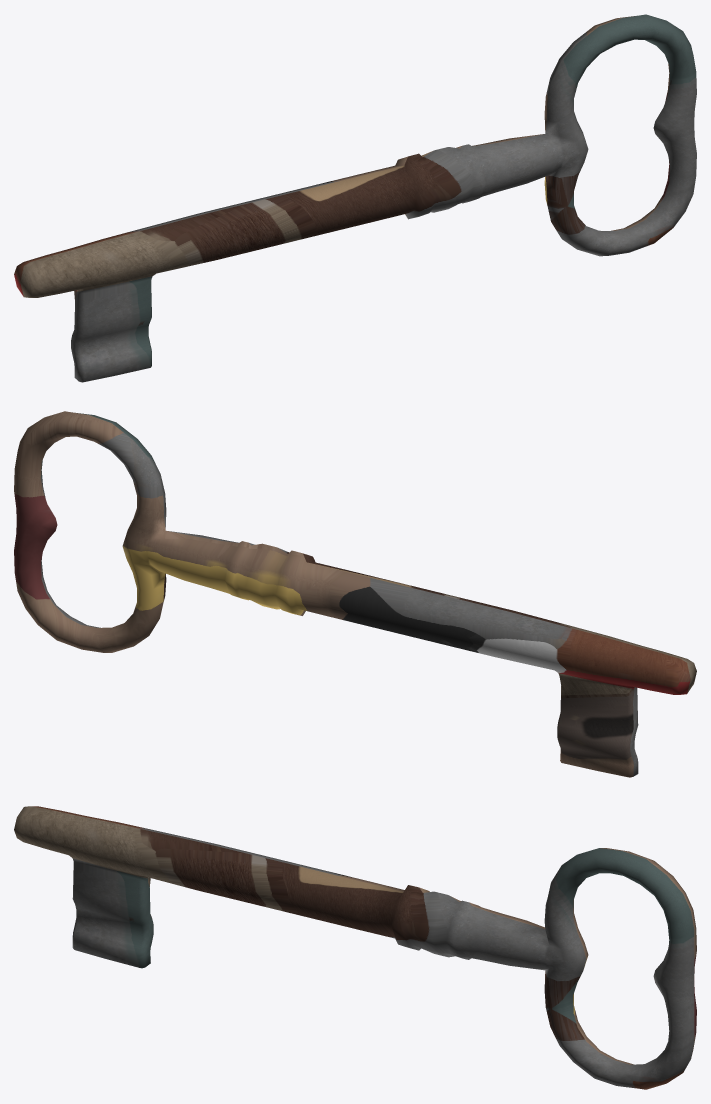
Rendered from rusted_key.fbx.
The picture shows the model from 3 angles, top to bottom: view 1: azimuth 30°, elevation 25°; view 2: azimuth 150°, elevation 25°; view 3: azimuth 330°, elevation 25°; orthographic projection.
Visible parts, largest first — view 1: Cylinder.001; view 2: Cylinder.001; view 3: Cylinder.001.
Boxes of the visible parts, left/top/right/bottom form: Cylinder.001: left=14, top=14, right=696, bottom=382; Cylinder.001: left=14, top=411, right=696, bottom=777; Cylinder.001: left=14, top=806, right=696, bottom=1089.
Size of the model in its own units: 419 by 140 by 37.07.
